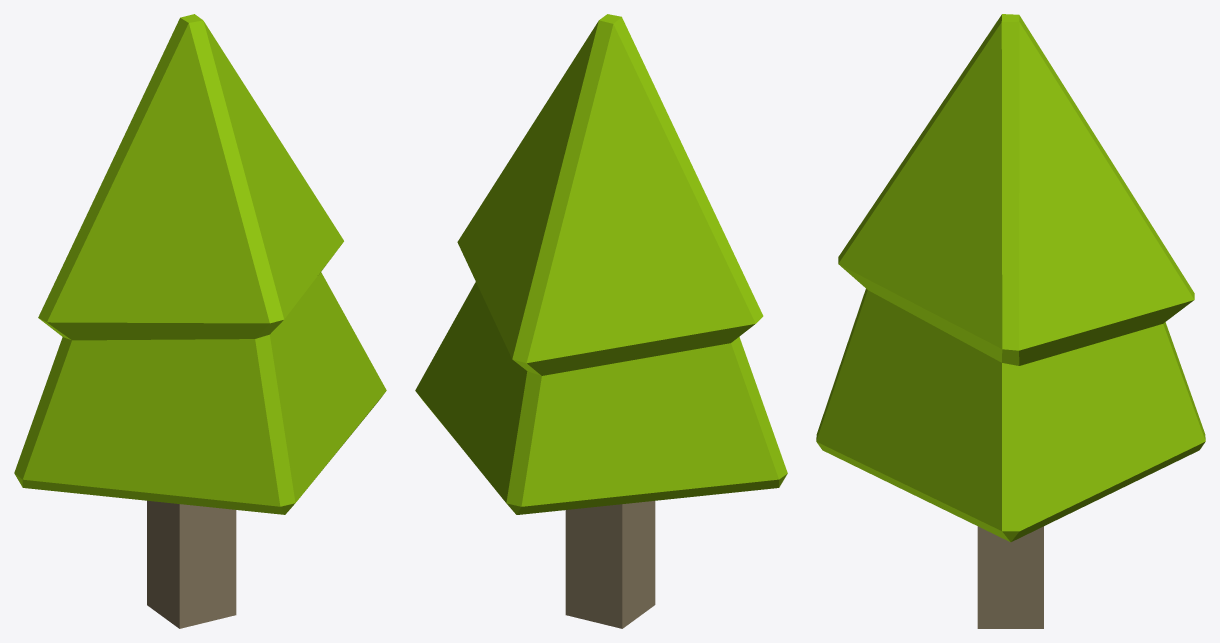
File: pine_skewed_14_bevel.fbx
3 views of the same model, side by side, from view 1: azimuth 30°, elevation 25°; view 2: azimuth 150°, elevation 25°; view 3: azimuth 270°, elevation 25° (orthographic).
Parts seen in each view (by area): view 1: pine_skewed_14_bevel; view 2: pine_skewed_14_bevel; view 3: pine_skewed_14_bevel.
Boxes of the visible parts, x1,y1,x2,y2 form: pine_skewed_14_bevel: (14, 14, 386, 628); pine_skewed_14_bevel: (415, 14, 787, 628); pine_skewed_14_bevel: (816, 14, 1205, 628).
Size of the model in its own units: 77.67 by 121 by 71.26.
